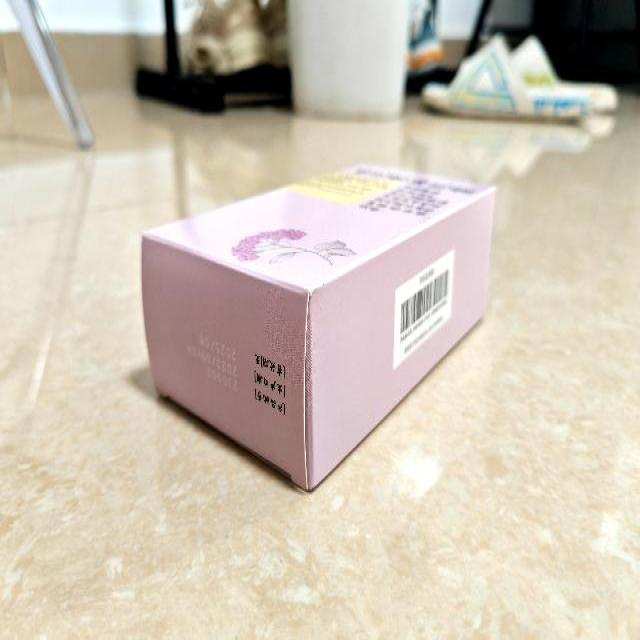box: (140, 162, 498, 490)
